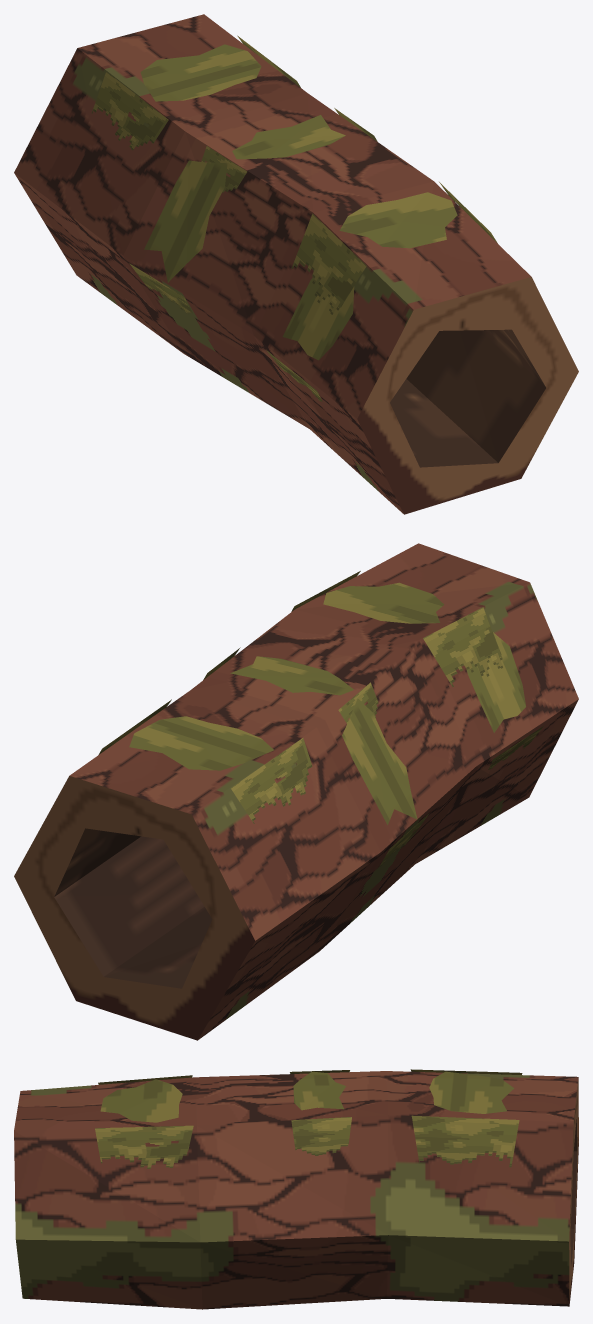
The model's file is SM_DW03_LogHollow.fbx.
3 renders of one model, top to bottom at view 1: azimuth 30°, elevation 25°; view 2: azimuth 150°, elevation 25°; view 3: azimuth 270°, elevation 25°, orthographic. The views are drawn at different scales.
Parts seen in each view (by area): view 1: DW03_Bark, DW03_Wood, DW03_Moss; view 2: DW03_Bark, DW03_Wood, DW03_Moss; view 3: DW03_Bark, DW03_Moss, DW03_Wood.
Boxes of the visible parts, bbox=[...] form: DW03_Bark: bbox=[14, 14, 531, 513]; DW03_Wood: bbox=[357, 277, 578, 514]; DW03_Moss: bbox=[92, 35, 497, 401]; DW03_Bark: bbox=[69, 543, 578, 1039]; DW03_Wood: bbox=[14, 776, 254, 1040]; DW03_Moss: bbox=[98, 571, 543, 866]; DW03_Bark: bbox=[14, 1071, 578, 1309]; DW03_Moss: bbox=[95, 1069, 522, 1168]; DW03_Wood: bbox=[569, 1077, 578, 1303].
Size of the model in its own units: 1.27 by 1.1 by 2.86.
